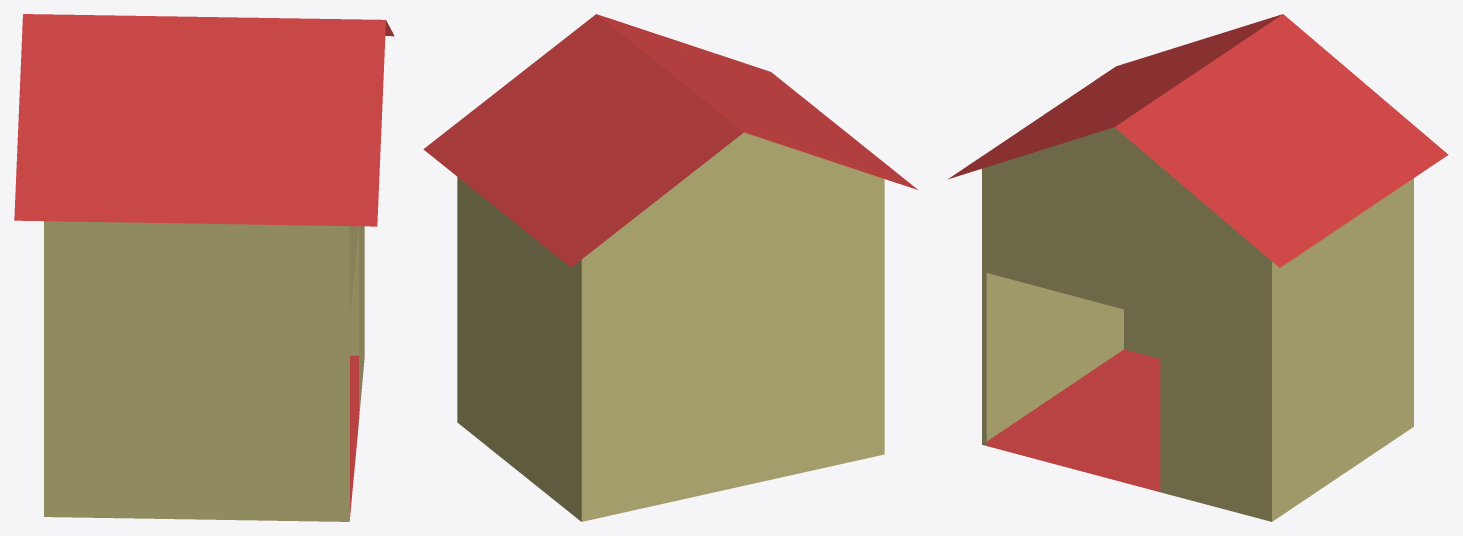
3 views of the same model, side by side, from view 1: azimuth 30°, elevation 25°; view 2: azimuth 150°, elevation 25°; view 3: azimuth 270°, elevation 25° (orthographic). The views are drawn at different scales.
Size of the model in its own units: 14.27 by 14.99 by 12.05.
